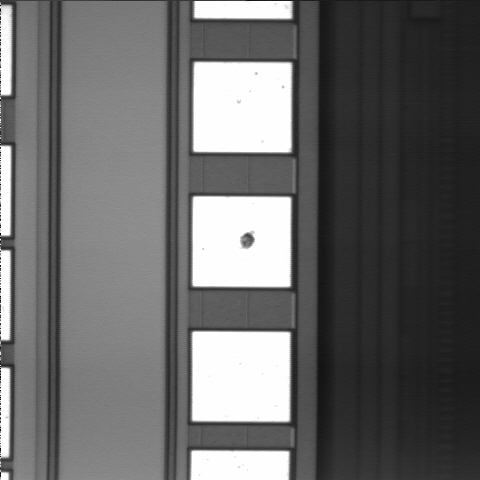pad: (193, 62, 291, 152), (193, 197, 291, 287), (192, 332, 290, 422)
